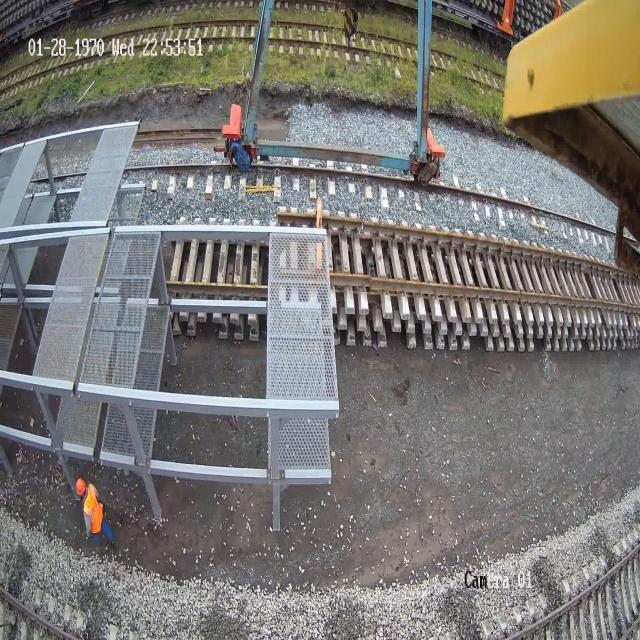Helmet: (76, 478, 86, 494)
Person: (75, 477, 114, 546)
